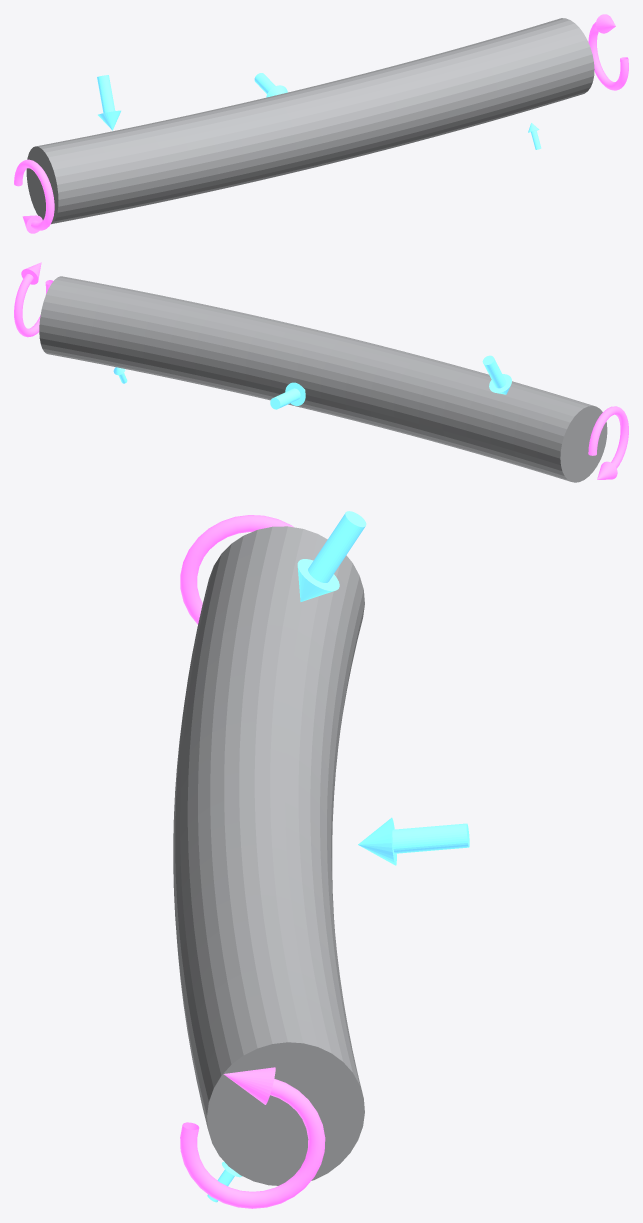
File: solidshaft.glb
3 renders of one model, top to bottom at view 1: azimuth 30°, elevation 25°; view 2: azimuth 150°, elevation 25°; view 3: azimuth 270°, elevation 25°, orthographic. The views are drawn at different scales.
Visible parts, largest first — view 1: solidshaft, TorsionArrow_Front, TorsionArrow_Rear, ForceArrow_Bearing_-40, ForceArrow_Bearing_0; view 2: solidshaft, TorsionArrow_Front, TorsionArrow_Rear, ForceArrow_Bearing_-40, ForceArrow_Bearing_0; view 3: solidshaft, TorsionArrow_Rear, ForceArrow_Bearing_0, ForceArrow_Bearing_-40, TorsionArrow_Front.
Part boxes in pixels (x1,y1,x2,y2): solidshaft: [26, 18, 594, 224]; TorsionArrow_Front: [14, 159, 54, 233]; TorsionArrow_Rear: [588, 14, 628, 90]; ForceArrow_Bearing_-40: [97, 75, 120, 130]; ForceArrow_Bearing_0: [254, 73, 287, 97]; solidshaft: [39, 276, 607, 482]; TorsionArrow_Front: [588, 406, 628, 479]; TorsionArrow_Rear: [14, 262, 53, 337]; ForceArrow_Bearing_-40: [482, 355, 511, 394]; ForceArrow_Bearing_0: [270, 382, 305, 409]; solidshaft: [173, 526, 364, 1185]; TorsionArrow_Rear: [180, 1067, 325, 1208]; ForceArrow_Bearing_0: [358, 817, 469, 865]; ForceArrow_Bearing_-40: [297, 511, 366, 601]; TorsionArrow_Front: [180, 515, 293, 624].
Size of the model in its own units: 112 by 26.84 by 24.23.
